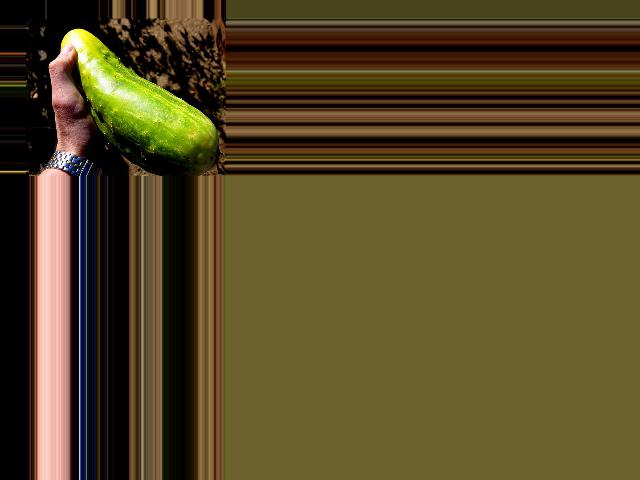cucumber: (60, 29, 220, 177)
